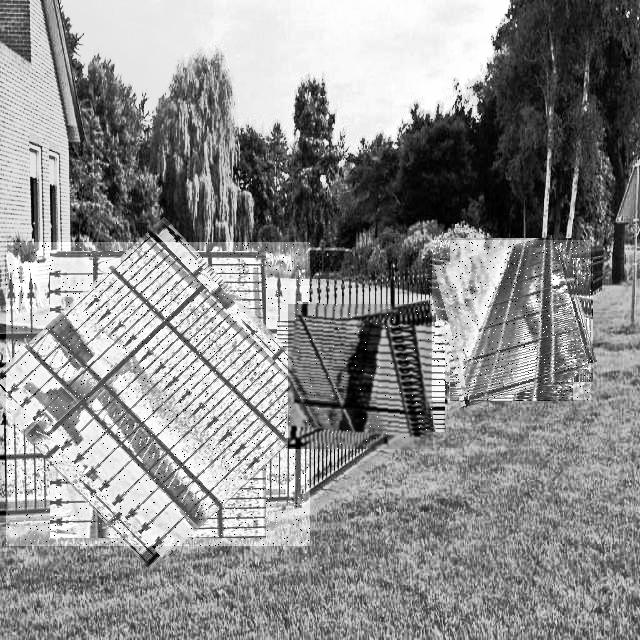fences: (6, 243, 310, 546), (432, 240, 591, 400), (288, 304, 433, 449)
